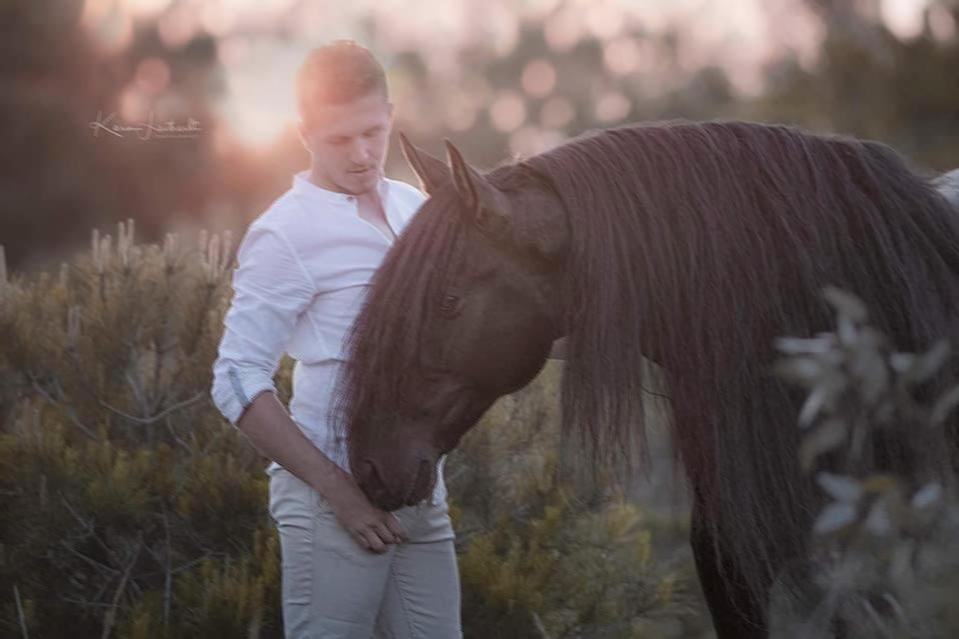horse: (325, 117, 958, 637)
